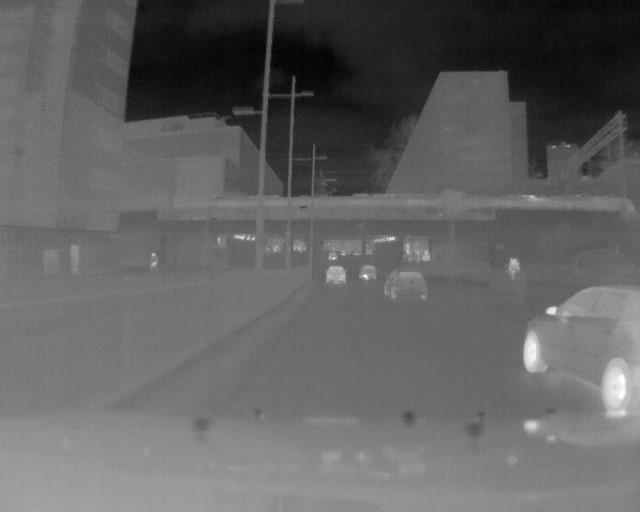car: (522, 284, 640, 415), (383, 268, 429, 302), (323, 264, 349, 288), (357, 262, 380, 283)
person: (149, 250, 159, 271)
